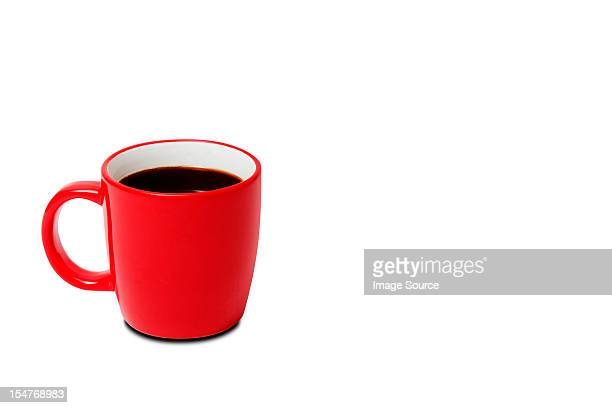cup: (42, 138, 265, 343)
